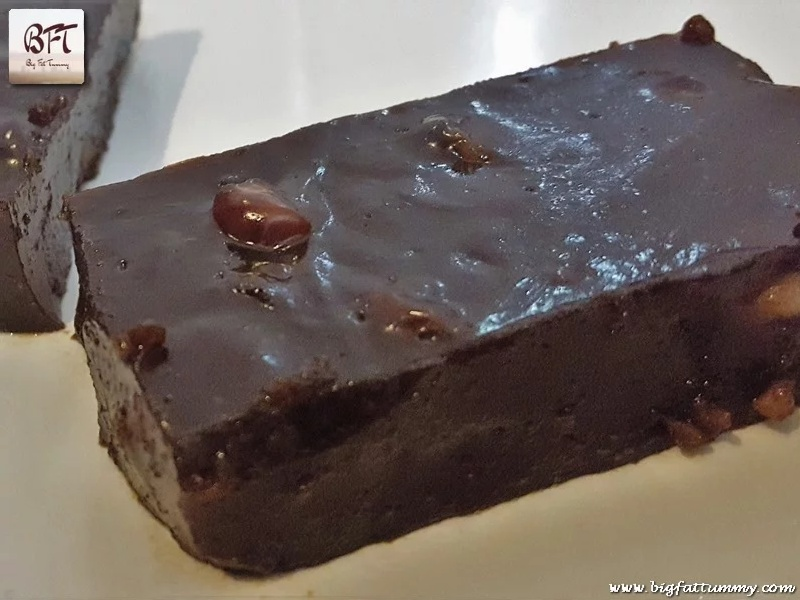dodol: (55, 18, 799, 577)
